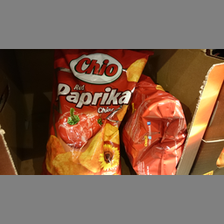chips: (44, 50, 147, 174)
